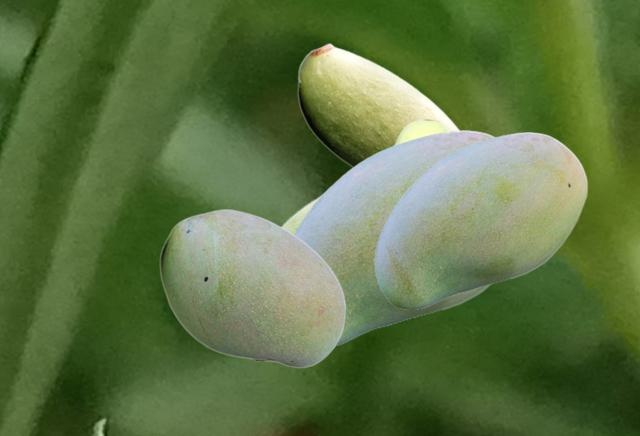green_mango: (292, 130, 497, 346), (374, 132, 587, 308), (159, 208, 345, 367), (297, 42, 459, 166), (249, 191, 323, 360), (394, 118, 448, 143)
